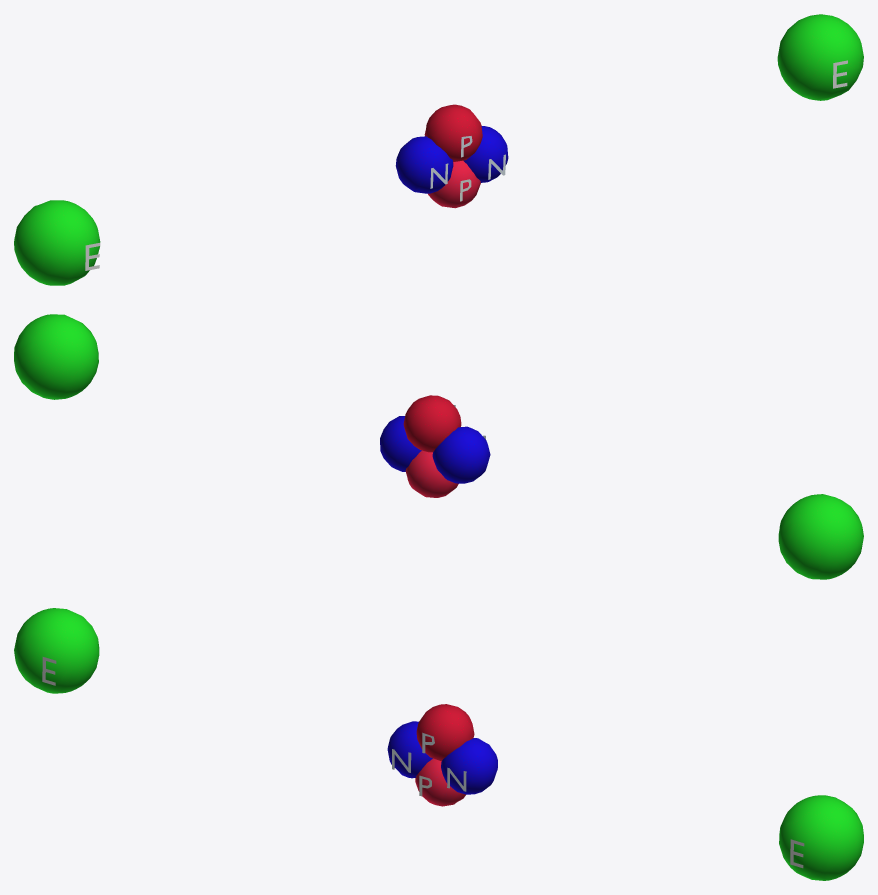
File: labeled_atom(c).glb
The picture shows the model from 3 angles, top to bottom: view 1: azimuth 30°, elevation 25°; view 2: azimuth 150°, elevation 25°; view 3: azimuth 330°, elevation 25°; orthographic projection.
Visible parts, largest first — view 1: Sphere.001; view 2: Sphere.001; view 3: Sphere.001.
Boxes of the visible parts, box(x1,y1,x2,y2) form: Sphere.001: box(14, 14, 863, 285); Sphere.001: box(14, 314, 863, 579); Sphere.001: box(14, 608, 863, 880).
Size of what is drawn, in the model's own units: 6.64 by 0.7351 by 0.635.
Materials: 1 (1 with a texture image).
